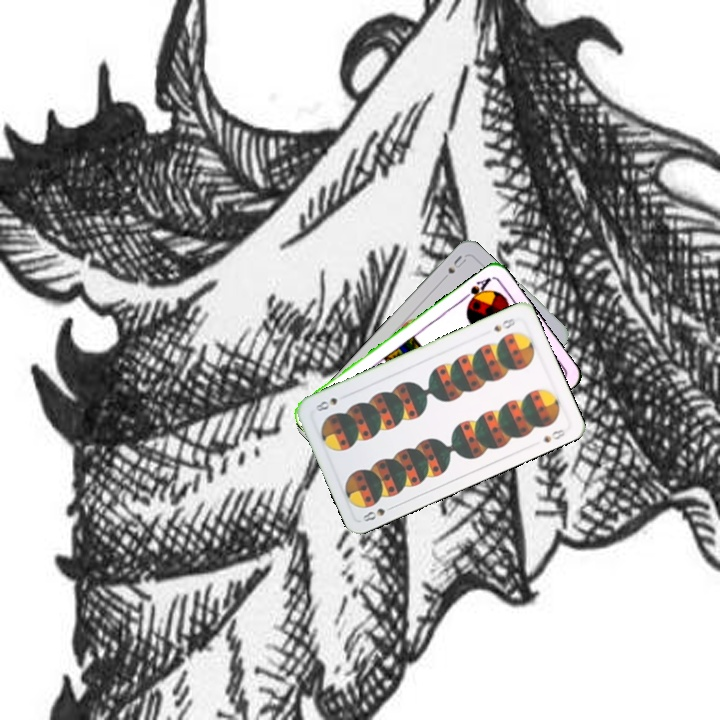S8: (358, 501, 398, 524), (490, 314, 519, 334)
SA: (458, 273, 494, 308)
SU: (444, 251, 469, 276)
